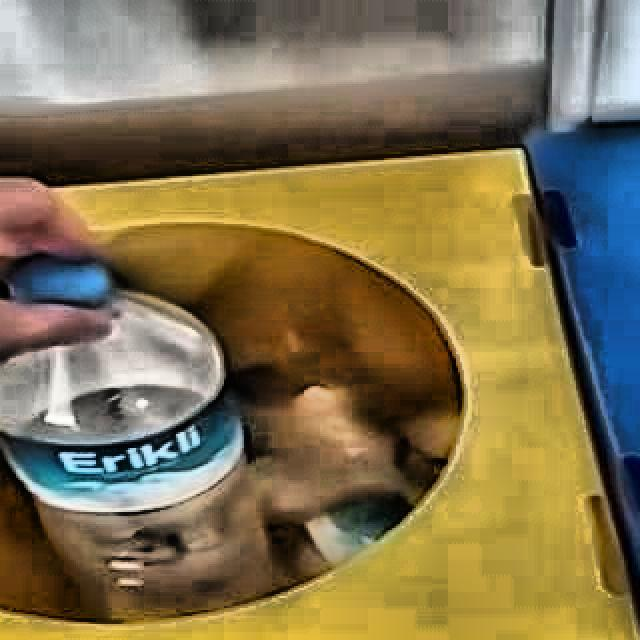plastic: (0, 256, 283, 624)
